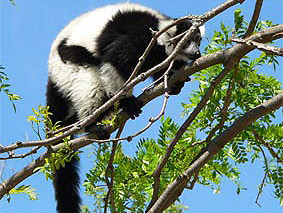cat: (42, 0, 203, 212)
